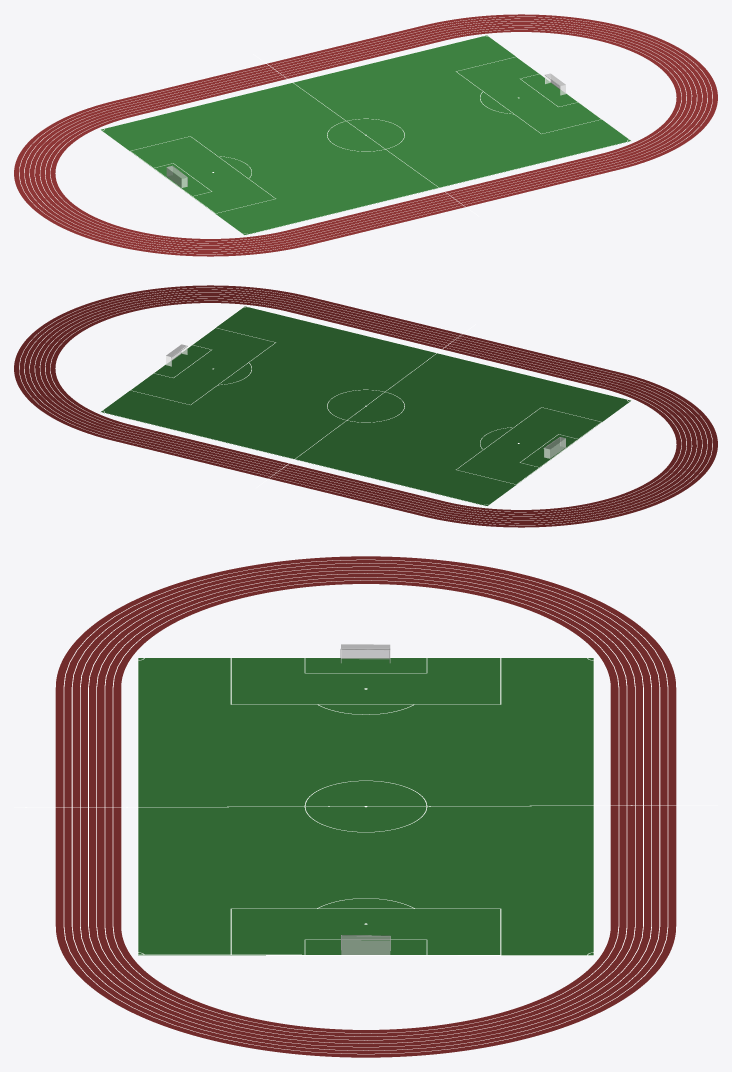
The model's file is football x running track.glb.
The picture shows the model from 3 angles, top to bottom: view 1: azimuth 30°, elevation 25°; view 2: azimuth 150°, elevation 25°; view 3: azimuth 270°, elevation 25°; orthographic projection. The views are drawn at different scales.
Visible parts, largest first — view 1: Node1, Node28, Node35, Node33, Node32, Node34, Node31, Node29, Node30; view 2: Node1, Node28, Node35, Node33, Node32, Node34, Node31, Node29, Node30; view 3: Node1, Node28, Node35, Node34, Node30, Node29, Node33, Node32, Node31.
Boxes of the visible parts, left/top/right/bottom form: Node1: left=101, top=35, right=630, bottom=234; Node28: left=14, top=14, right=717, bottom=256; Node35: left=19, top=16, right=712, bottom=254; Node33: left=29, top=21, right=702, bottom=249; Node32: left=34, top=23, right=697, bottom=247; Node34: left=24, top=18, right=707, bottom=252; Node31: left=39, top=25, right=692, bottom=245; Node29: left=50, top=29, right=681, bottom=241; Node30: left=45, top=27, right=686, bottom=243; Node1: left=101, top=306, right=630, bottom=505; Node28: left=14, top=285, right=717, bottom=527; Node35: left=19, top=287, right=712, bottom=525; Node33: left=29, top=292, right=702, bottom=520; Node32: left=34, top=294, right=697, bottom=518; Node34: left=24, top=289, right=707, bottom=523; Node31: left=39, top=296, right=692, bottom=516; Node29: left=50, top=300, right=681, bottom=512; Node30: left=45, top=298, right=686, bottom=514; Node1: left=138, top=658, right=593, bottom=955; Node28: left=55, top=556, right=676, bottom=1057; Node35: left=63, top=559, right=668, bottom=1054; Node34: left=71, top=563, right=660, bottom=1050; Node30: left=104, top=577, right=627, bottom=1036; Node29: left=112, top=580, right=619, bottom=1033; Node33: left=80, top=566, right=651, bottom=1047; Node32: left=88, top=570, right=643, bottom=1043; Node31: left=96, top=573, right=635, bottom=1040.
Size of the model in its own units: 177 by 2.88 by 105.
